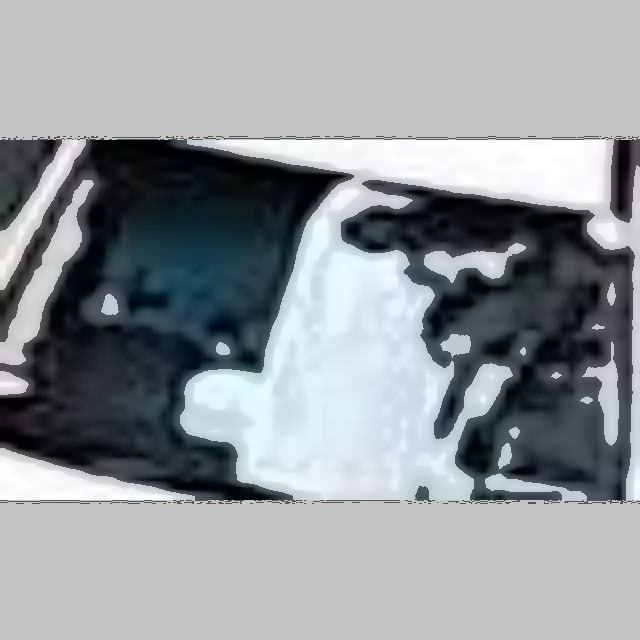tidak-pakai: (112, 212, 312, 380)
